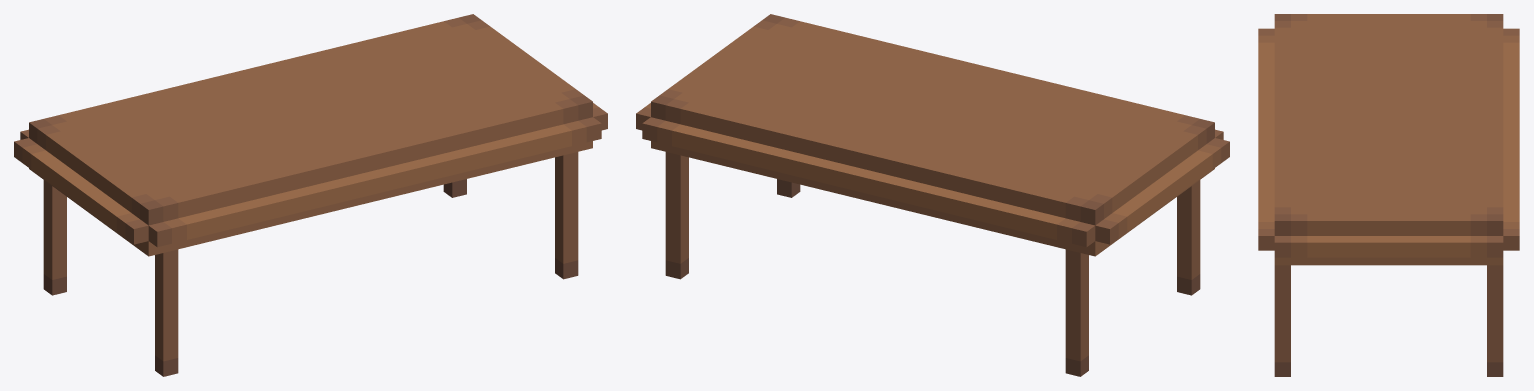
File: Interior_Furniture_Table_Long_Type01_2x1.obj
3 renders of one model, left to right at view 1: azimuth 30°, elevation 25°; view 2: azimuth 150°, elevation 25°; view 3: azimuth 270°, elevation 25°, orthographic. The views are drawn at different scales.
Bounding box in the file's own units: 3.2 × 1.1 × 1.6.
Materials: 1 (1 with a texture image).
